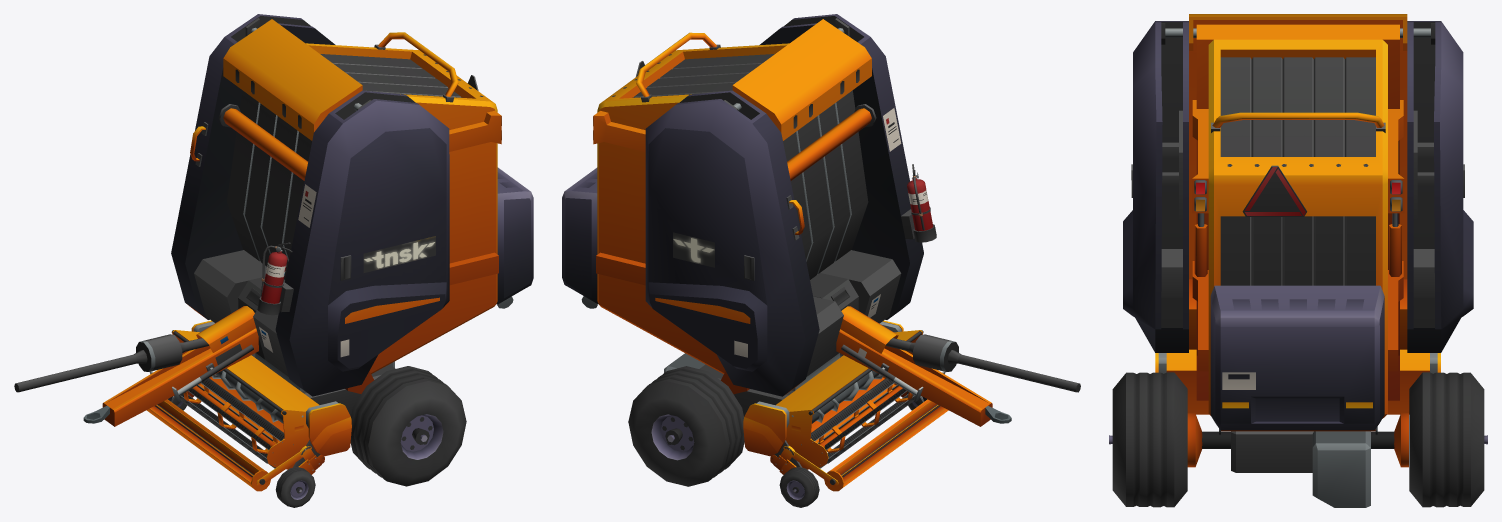
Rendered from TFP_Round_Baler_01C.fbx.
The picture shows the model from 3 angles, left to right: view 1: azimuth 30°, elevation 25°; view 2: azimuth 150°, elevation 25°; view 3: azimuth 270°, elevation 25°; orthographic projection. The views are drawn at different scales.
Visible parts, largest first — view 1: TFP_Round_Baler_01C_LOD0, TFP_Round_Baler_01C_Tail_Gate_LOD0, TFP_Round_Baler_01C_Wheel_R.L_LOD0, TFP_Round_Baler_01C_Reel_LOD0, TFP_Round_Baler_01C_Roller_Baffle_LOD0, TFP_Round_Baler_01C_Wheel_F.L_LOD0, TFP_Round_Baler_01C_Extinguisher_LOD0, TFP_Round_Baler_01C_Auger_LOD0, TFP_Round_Baler_01C_Roller_Baffle_Arms_LOD0; view 2: TFP_Round_Baler_01C_LOD0, TFP_Round_Baler_01C_Tail_Gate_LOD0, TFP_Round_Baler_01C_Wheel_R.R_LOD0, TFP_Round_Baler_01C_Reel_LOD0, TFP_Round_Baler_01C_Roller_Baffle_LOD0, TFP_Round_Baler_01C_Wheel_F.R_LOD0, TFP_Round_Baler_01C_Extinguisher_LOD0, TFP_Round_Baler_01C_Auger_LOD0, TFP_Round_Baler_01C_Roller_Baffle_Arms_LOD0; view 3: TFP_Round_Baler_01C_Tail_Gate_LOD0, TFP_Round_Baler_01C_LOD0, TFP_Round_Baler_01C_Wheel_R.L_LOD0, TFP_Round_Baler_01C_Wheel_R.R_LOD0.
Boxes of the visible parts, bbox=[...] form: TFP_Round_Baler_01C_LOD0: bbox=[14, 14, 449, 474]; TFP_Round_Baler_01C_Tail_Gate_LOD0: bbox=[306, 32, 533, 393]; TFP_Round_Baler_01C_Wheel_R.L_LOD0: bbox=[350, 366, 466, 486]; TFP_Round_Baler_01C_Reel_LOD0: bbox=[174, 378, 293, 468]; TFP_Round_Baler_01C_Roller_Baffle_LOD0: bbox=[146, 399, 265, 487]; TFP_Round_Baler_01C_Wheel_F.L_LOD0: bbox=[275, 467, 315, 507]; TFP_Round_Baler_01C_Extinguisher_LOD0: bbox=[261, 242, 292, 303]; TFP_Round_Baler_01C_Auger_LOD0: bbox=[211, 370, 283, 423]; TFP_Round_Baler_01C_Roller_Baffle_Arms_LOD0: bbox=[251, 450, 302, 491]; TFP_Round_Baler_01C_LOD0: bbox=[645, 14, 1080, 474]; TFP_Round_Baler_01C_Tail_Gate_LOD0: bbox=[562, 32, 789, 394]; TFP_Round_Baler_01C_Wheel_R.R_LOD0: bbox=[628, 366, 744, 486]; TFP_Round_Baler_01C_Reel_LOD0: bbox=[801, 378, 920, 468]; TFP_Round_Baler_01C_Roller_Baffle_LOD0: bbox=[830, 399, 948, 487]; TFP_Round_Baler_01C_Wheel_F.R_LOD0: bbox=[779, 467, 819, 507]; TFP_Round_Baler_01C_Extinguisher_LOD0: bbox=[907, 164, 933, 231]; TFP_Round_Baler_01C_Auger_LOD0: bbox=[812, 370, 883, 423]; TFP_Round_Baler_01C_Roller_Baffle_Arms_LOD0: bbox=[792, 450, 843, 491]; TFP_Round_Baler_01C_Tail_Gate_LOD0: bbox=[1192, 24, 1404, 435]; TFP_Round_Baler_01C_LOD0: bbox=[1123, 14, 1473, 507]; TFP_Round_Baler_01C_Wheel_R.L_LOD0: bbox=[1109, 372, 1187, 507]; TFP_Round_Baler_01C_Wheel_R.R_LOD0: bbox=[1409, 372, 1487, 507].
Size of what is drawn, in the model's own units: 6.45 by 4.92 by 3.61.
